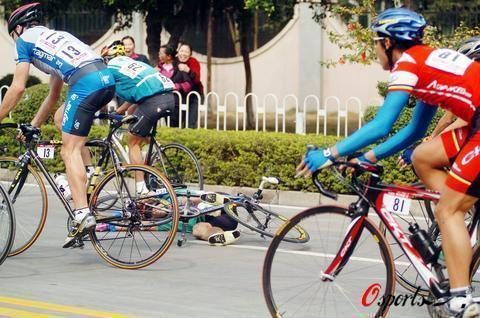Fall-Detected: (84, 172, 251, 252)
